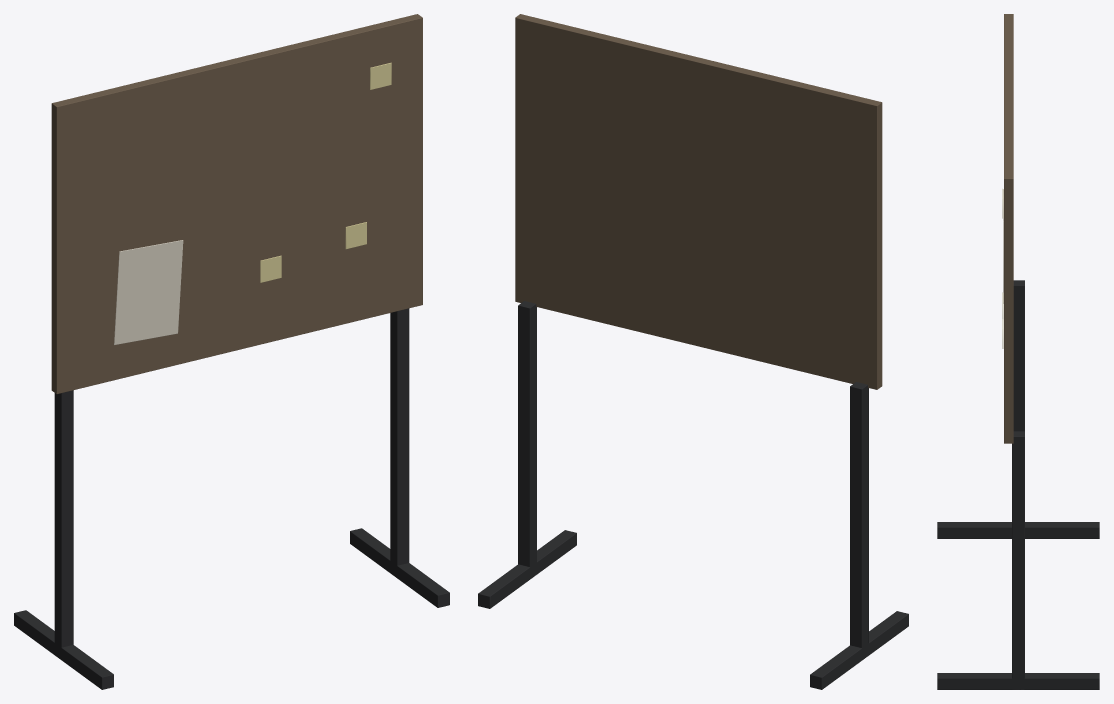
The model's file is SM_F_PinBoard.fbx.
3 renders of one model, left to right at view 1: azimuth 30°, elevation 25°; view 2: azimuth 150°, elevation 25°; view 3: azimuth 270°, elevation 25°, orthographic. The views are drawn at different scales.
Visible parts, largest first — view 1: SM_F_PinBoard__Body; view 2: SM_F_PinBoard__Body; view 3: SM_F_PinBoard__Body.
Part boxes in pixels (left/top/right/bottom): SM_F_PinBoard__Body: left=14, top=14, right=449, bottom=689; SM_F_PinBoard__Body: left=478, top=14, right=908, bottom=689; SM_F_PinBoard__Body: left=937, top=14, right=1099, bottom=689.
Size of the model in its own units: 1.2 by 1.75 by 0.5.
